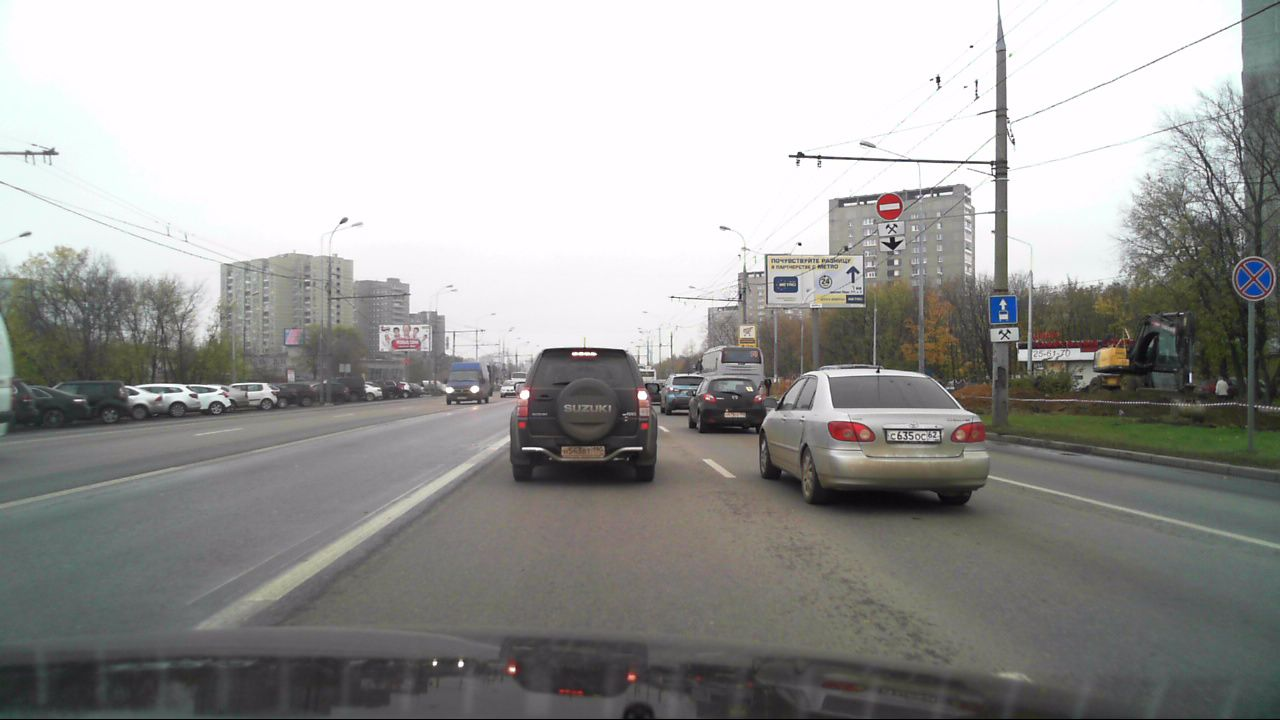No Parking: (1231, 255, 1275, 304)
